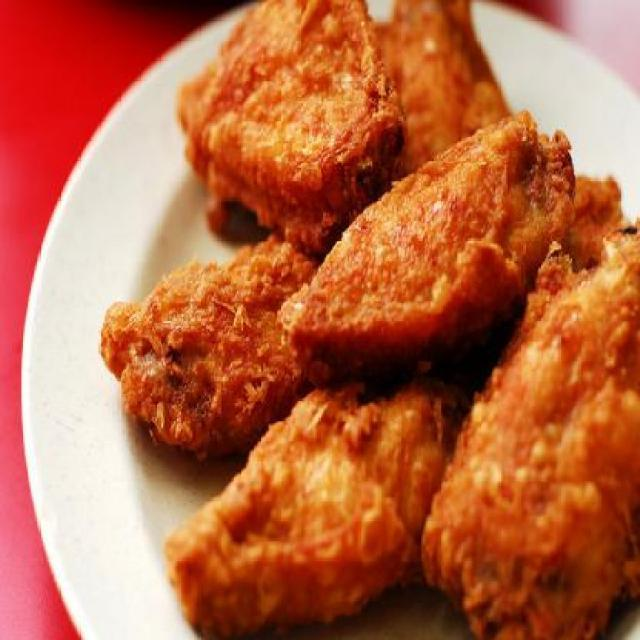Deep fried chicken wing: (110, 22, 632, 604)
